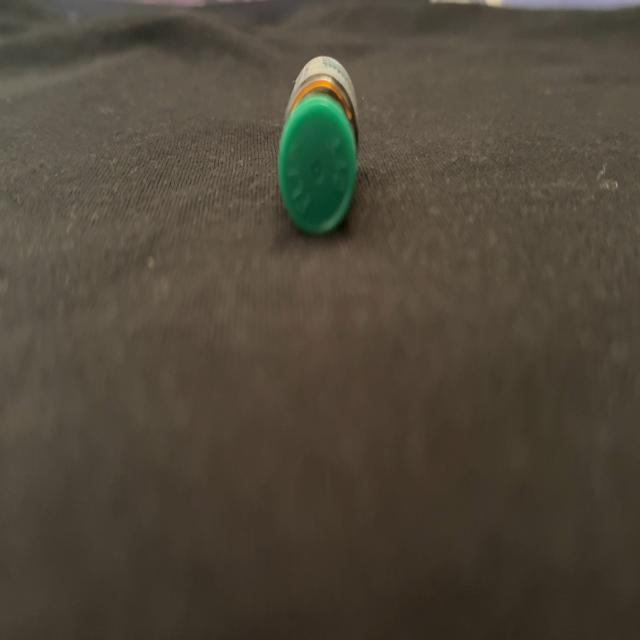midazolm: (278, 58, 358, 233)
